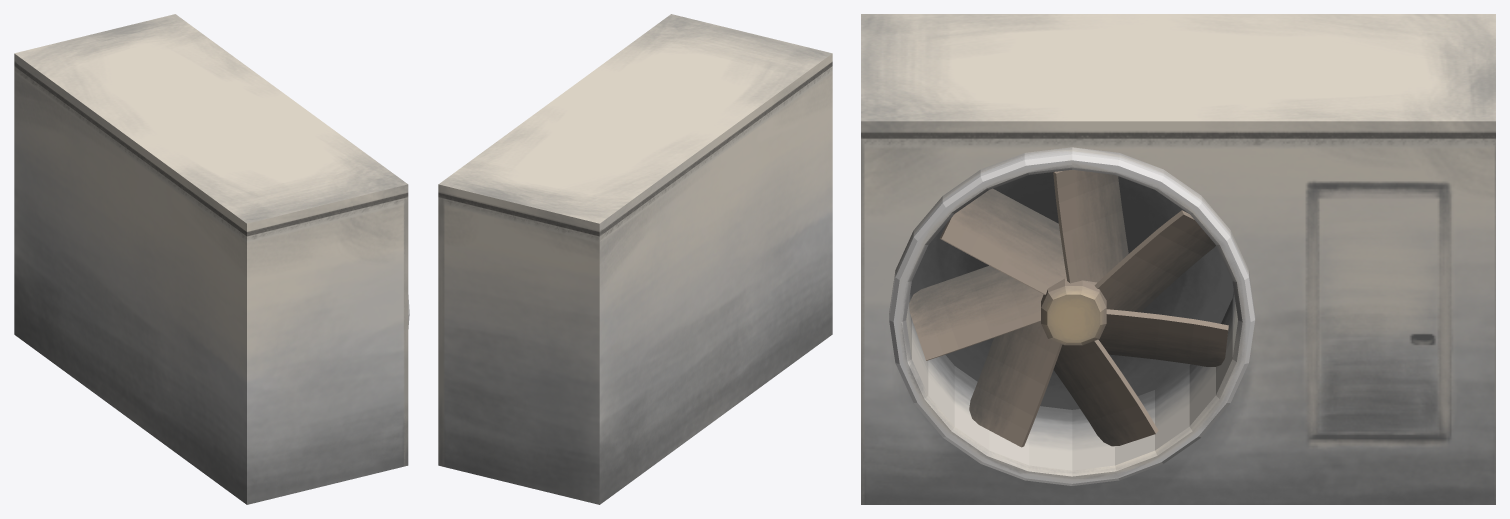
Rendered from air vent (1).fbx.
3 views of the same model, side by side, from view 1: azimuth 30°, elevation 25°; view 2: azimuth 150°, elevation 25°; view 3: azimuth 270°, elevation 25° (orthographic). The views are drawn at different scales.
Visible parts, largest first — view 1: Cube; view 2: Cube; view 3: Cube, Cube.001.
Part boxes in pixels (x1,y1,x2,y2): Cube: (14,14,409,504); Cube: (438,14,832,504); Cube: (861,14,1495,504); Cube.001: (909,170,1228,447).
Bounding box in the file's own units: 130 × 200 × 300.
